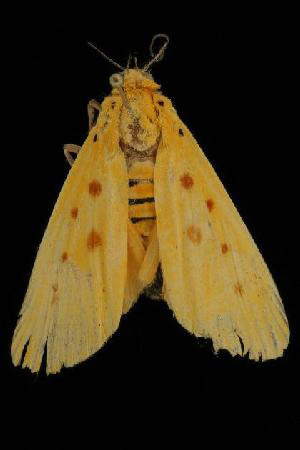Agape chloropyga: (7, 25, 289, 376)
moth: (9, 27, 291, 378)
